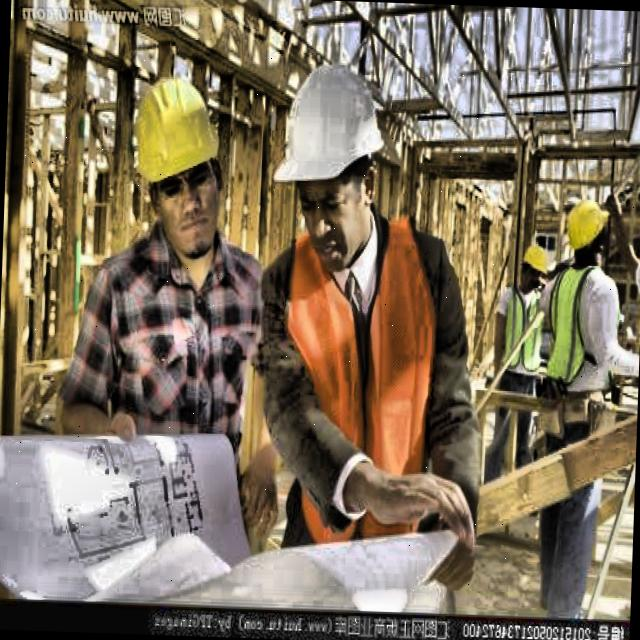helmet: (272, 54, 385, 274), (125, 68, 229, 258), (563, 192, 613, 270), (517, 241, 552, 295)
